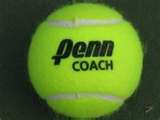tennis ball: (26, 2, 146, 120)
